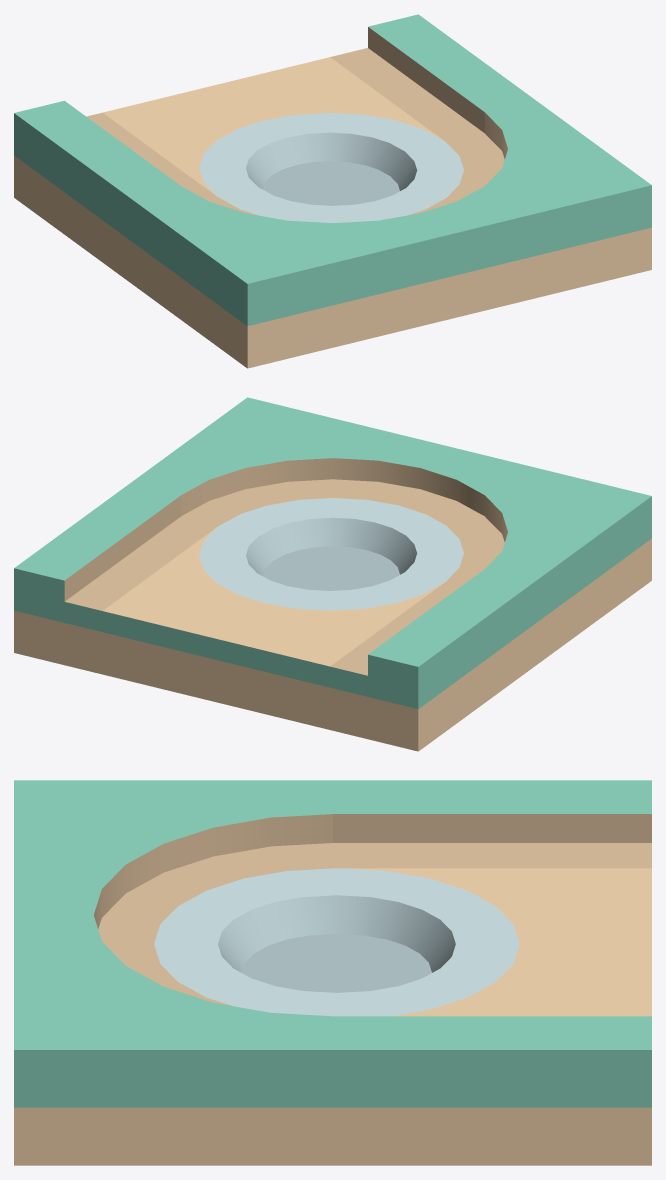
Rendered from tile_endRoundSpawn.glb.
3 views of the same model, one above another, from view 1: azimuth 30°, elevation 25°; view 2: azimuth 150°, elevation 25°; view 3: azimuth 270°, elevation 25° (orthographic). The views are drawn at different scales.
Parts seen in each view (by area): view 1: tile_endRoundSpawn; view 2: tile_endRoundSpawn; view 3: tile_endRoundSpawn.
Boxes of the visible parts, bbox=[...] form: tile_endRoundSpawn: bbox=[14, 14, 651, 368]; tile_endRoundSpawn: bbox=[14, 397, 651, 751]; tile_endRoundSpawn: bbox=[14, 780, 651, 1165].
Size of the model in its own units: 1 by 0.2 by 1.
